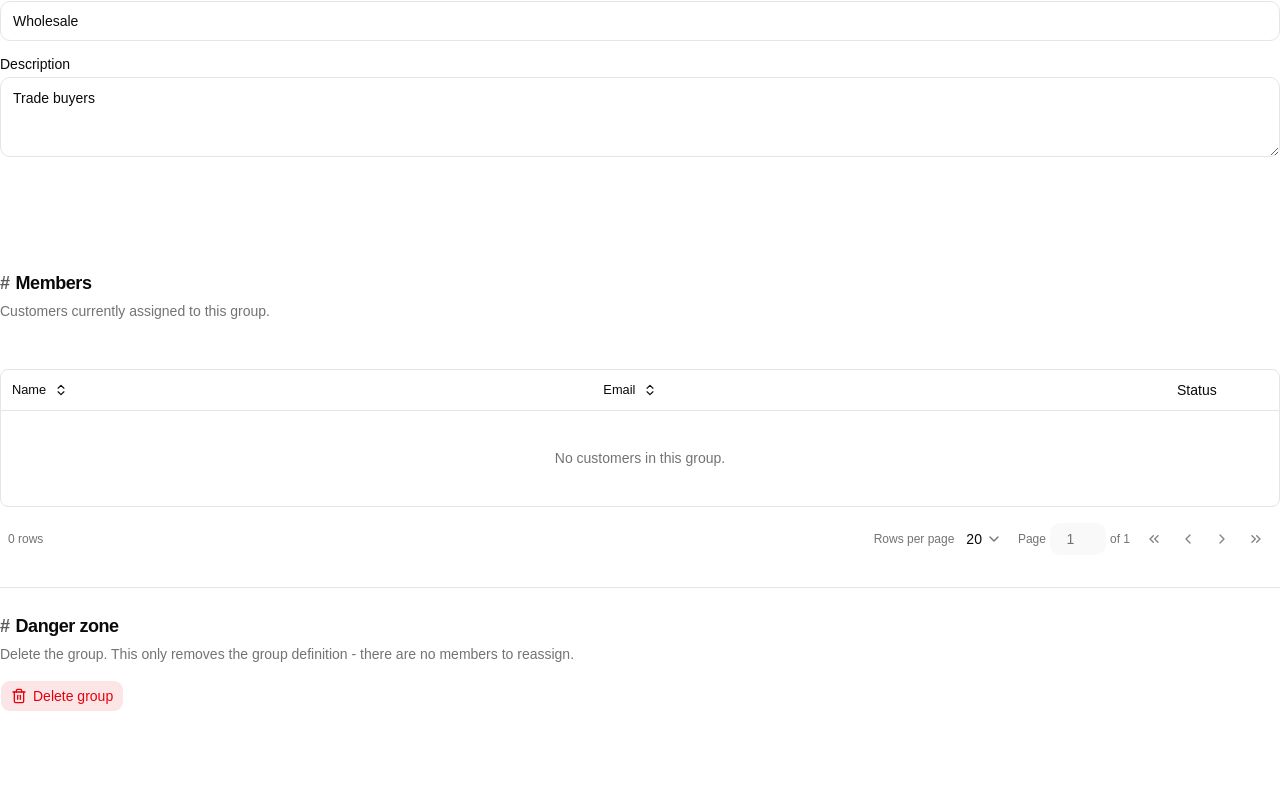
it: CustomerGroupDetailPage delete › keeps the dialog open and shows a refused delete
This screenshot has width=1280, height=800.
(page scrolled)
Click the button "Delete group" at (62, 696), box [0,680,124,712]
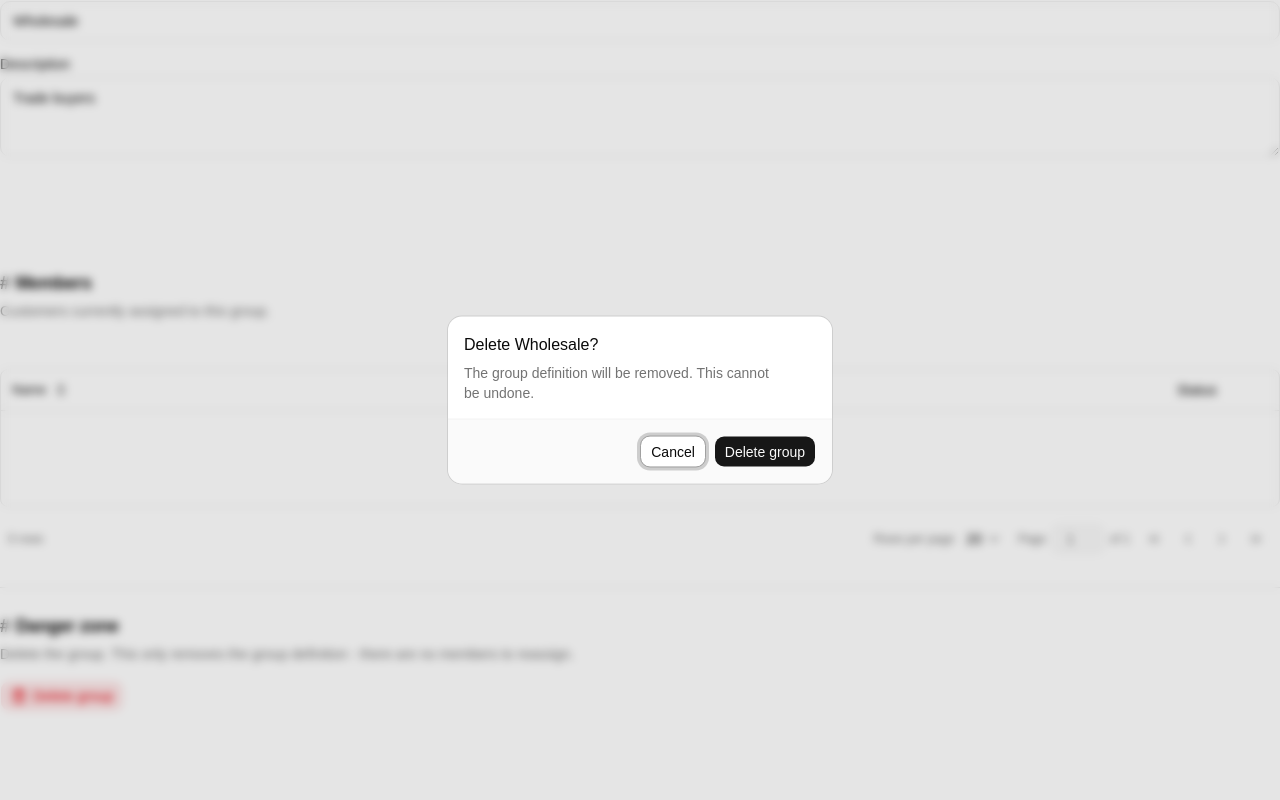
Click the button "Delete group" at (765, 452), box [714,436,816,468]
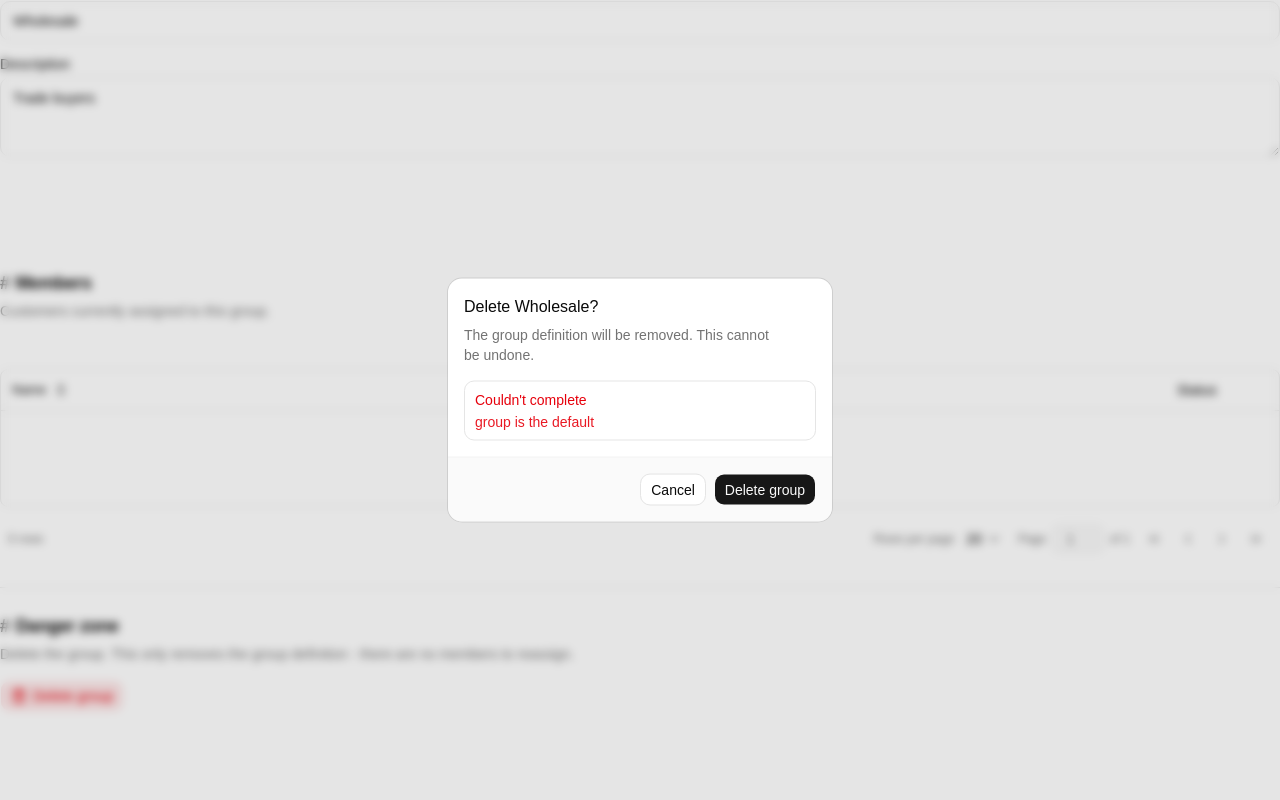
Expected: the text "group is the default" is shown, [475,414,594,430]
